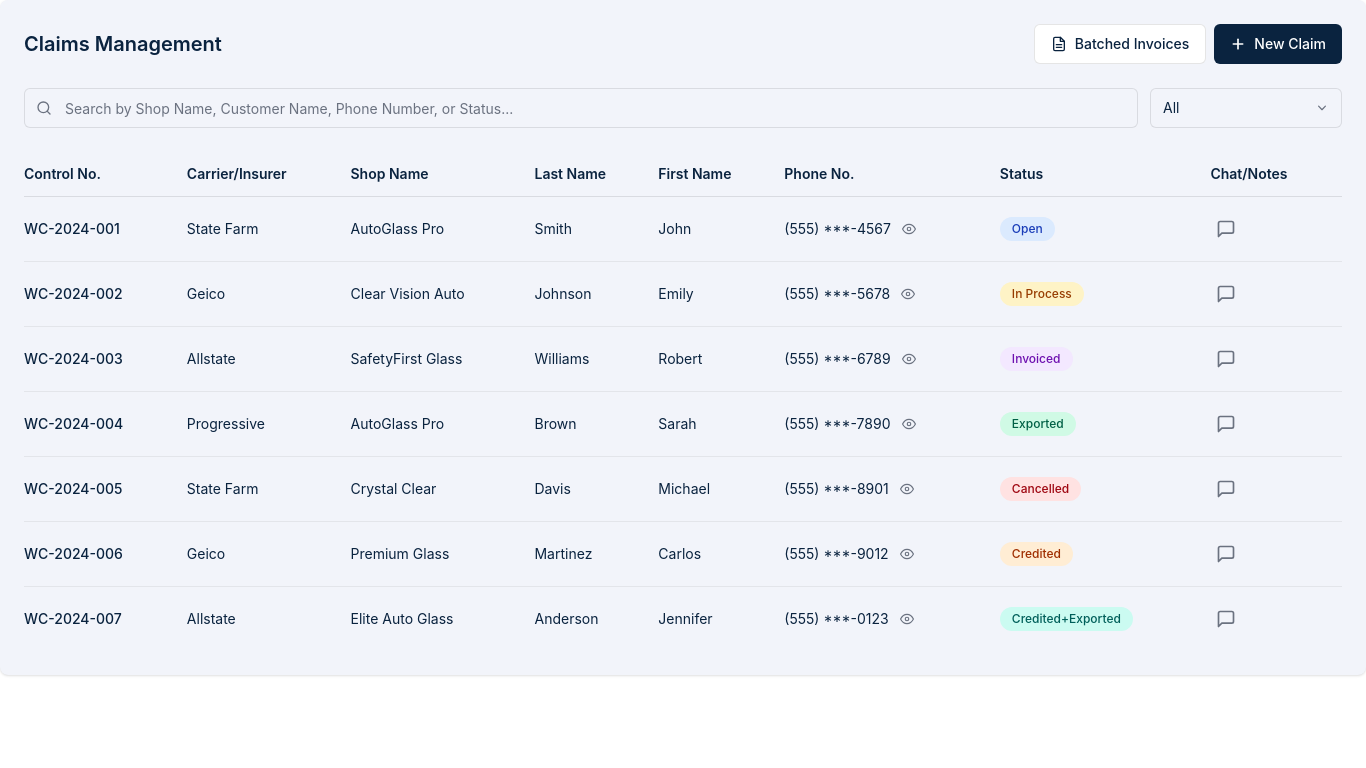
Test: ClaimsListPage › filters by carrier name (debounced)
This screenshot has width=1366, height=768.
Type "Geico" into the search field with placeholder "Search by Shop Name" at (581, 108), box [24,88,1138,128]
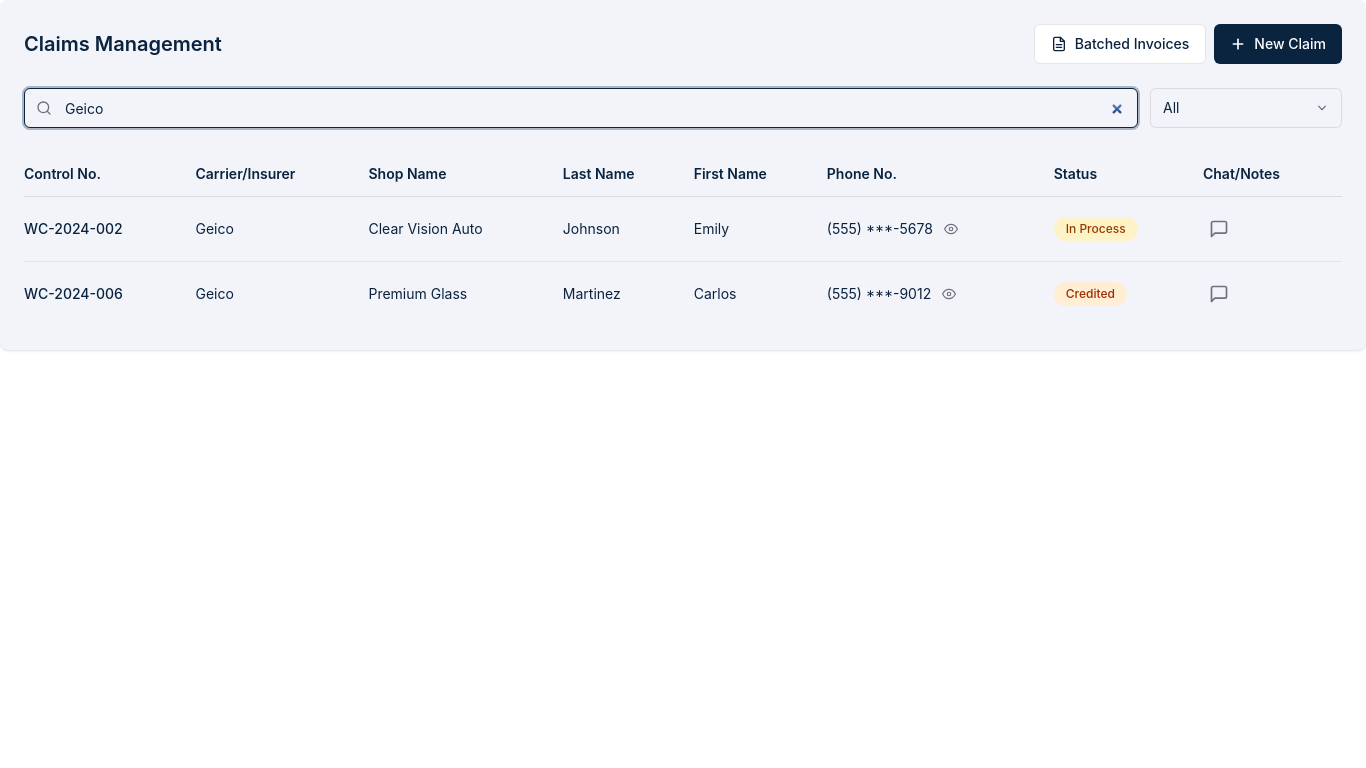
Expected: the link "WC-2024-002" is shown, [24,220,123,237]
Now the link "WC-2024-001" is gone
